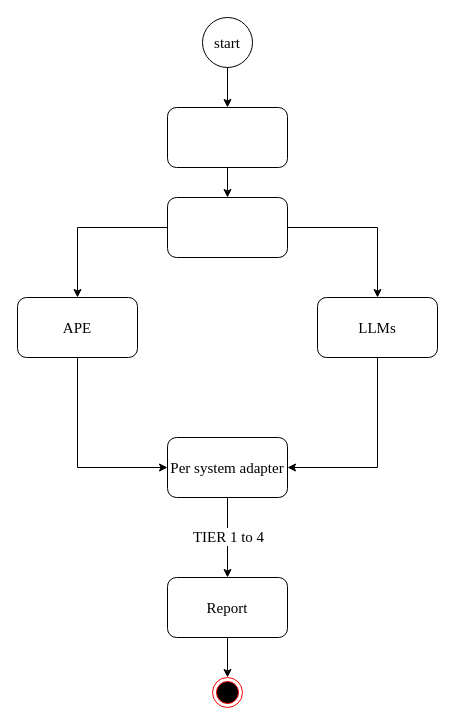
Some shapes in this 455 by 725 pixel diagram are drawn without their labels. Each missing label, with the centre of its shape:
"[domain-ref]" goes at (227,227).
"Use-case spec" goes at (227,137).
